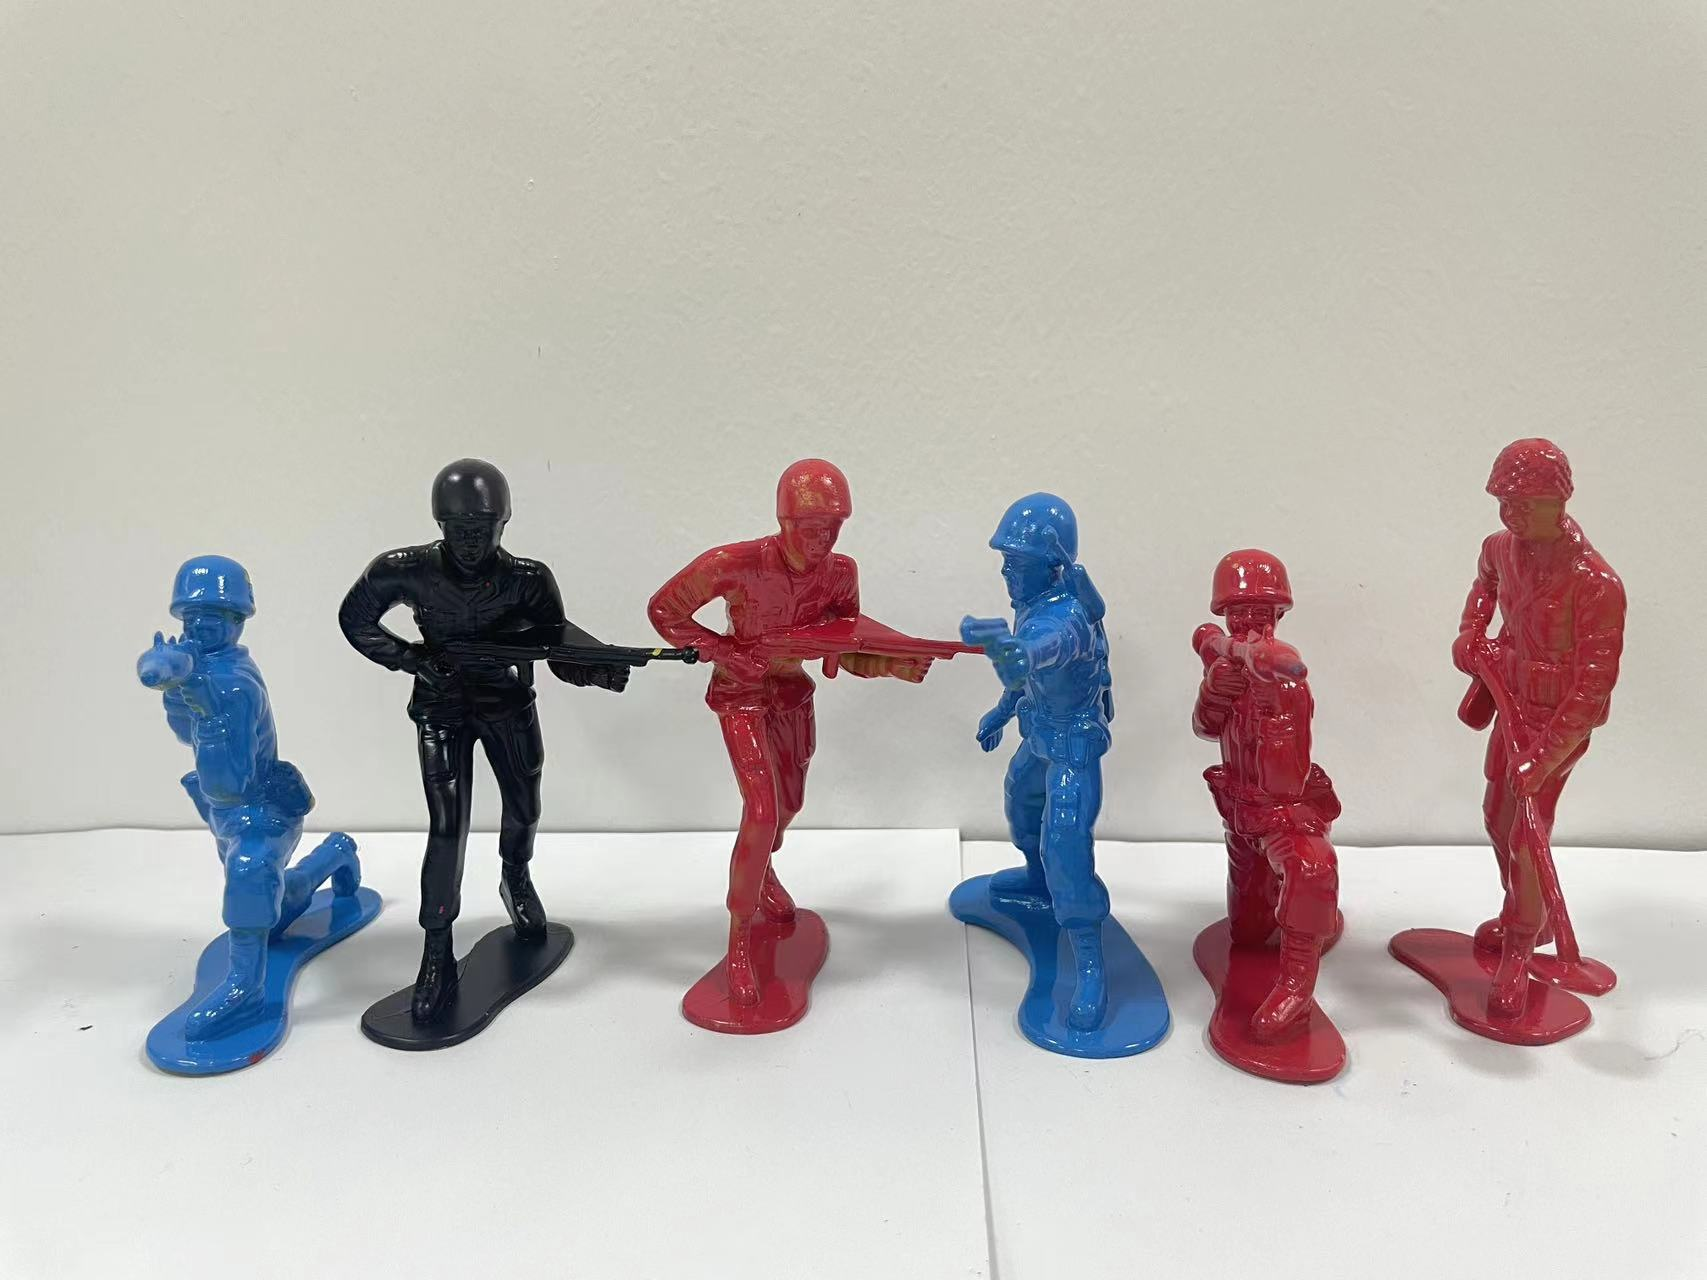black: (306, 440, 640, 1041)
blue: (940, 469, 1179, 1121), (124, 528, 331, 1092)
red: (1398, 370, 1690, 1107), (642, 457, 934, 1086), (1164, 528, 1374, 1116)
